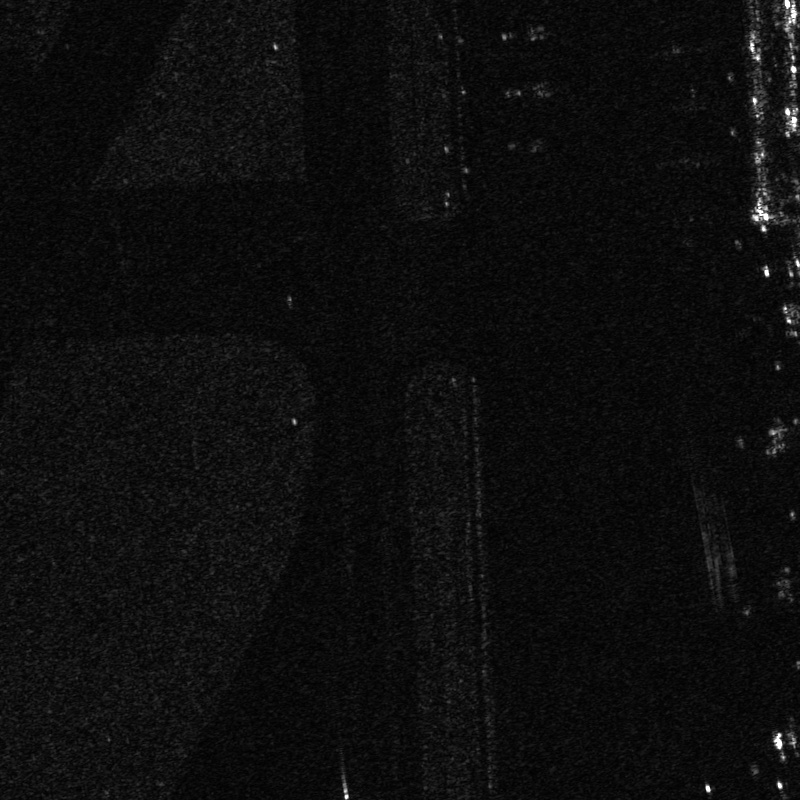ARJ21: (496, 72, 562, 113), (502, 127, 556, 158)
other: (495, 14, 553, 57)
